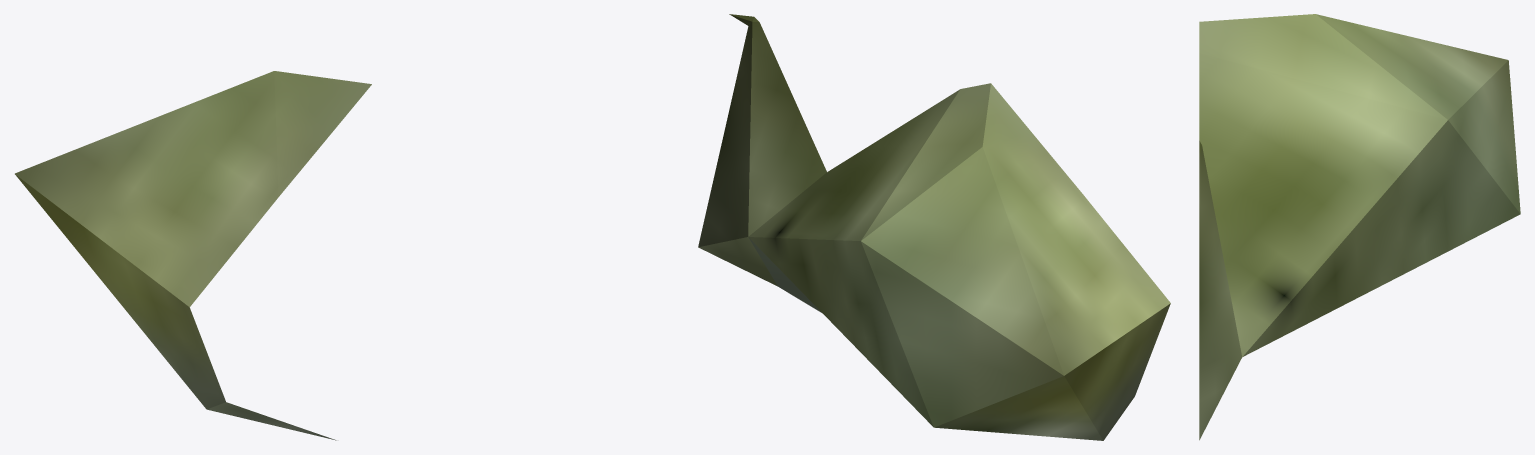
The picture shows the model from 3 angles, left to right: view 1: azimuth 30°, elevation 25°; view 2: azimuth 150°, elevation 25°; view 3: azimuth 270°, elevation 25°; orthographic projection. The views are drawn at different scales.
Size of the model in its own units: 0.2086 by 0.1388 by 0.1037.
Materials: 1 (1 with a texture image).
